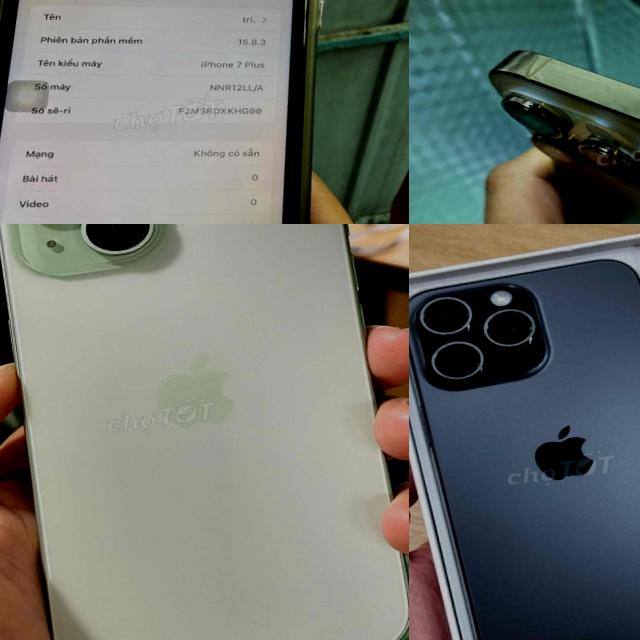gen_14: (470, 12, 640, 224)
gen_15: (0, 224, 409, 640), (409, 234, 640, 640)
gen_7_8: (0, 0, 379, 224)
